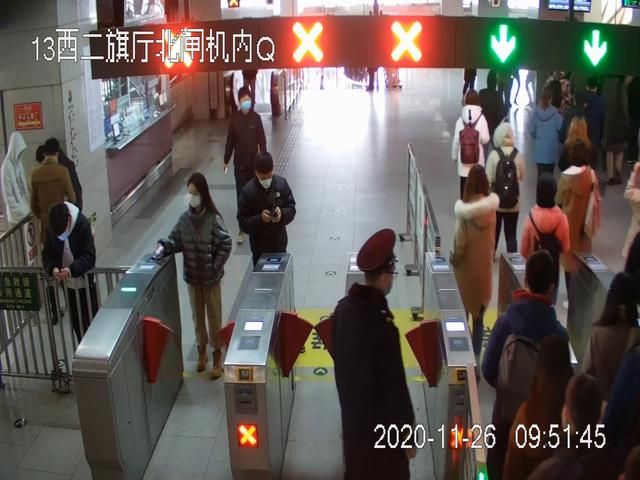person: (333, 228, 417, 480), (482, 253, 571, 480), (151, 172, 231, 379), (450, 165, 499, 382), (238, 153, 296, 320), (554, 141, 604, 312), (521, 175, 570, 340), (223, 87, 269, 245), (44, 203, 97, 336), (2, 129, 37, 305), (484, 122, 526, 266), (451, 91, 490, 232), (529, 87, 564, 216)
